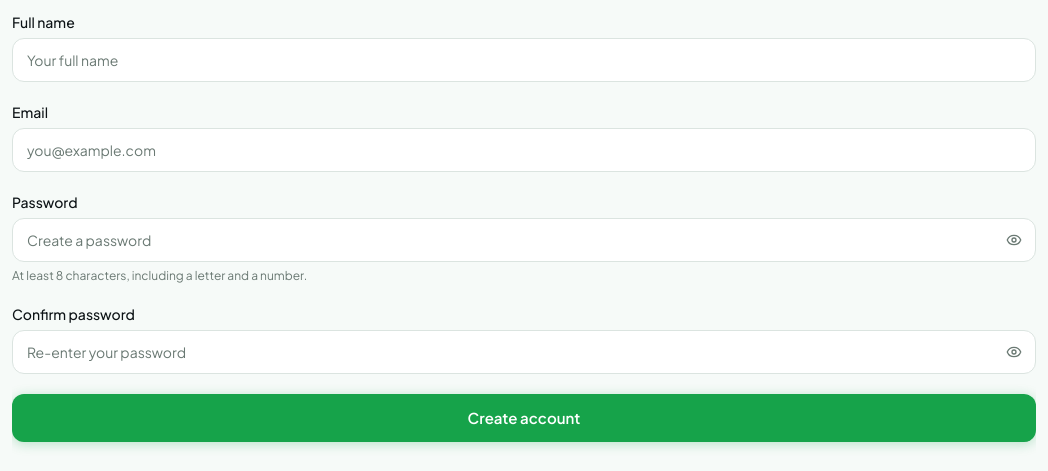
Test: RegisterForm › requires a strong password
Type "Ada Obi" into the field labelled "Full name" at (524, 60), box [12, 38, 1036, 82]
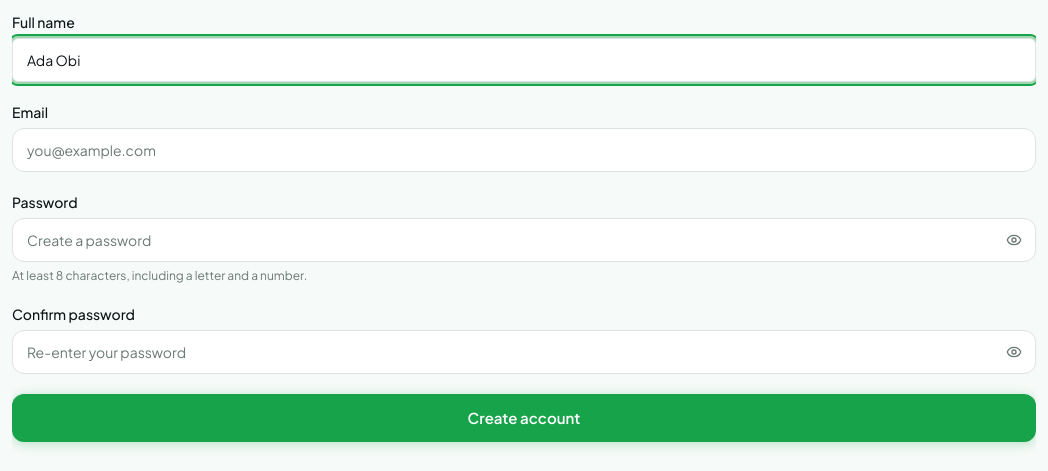
Type "ada@example.com" into the field labelled "Email" at (524, 150), box [12, 128, 1036, 172]
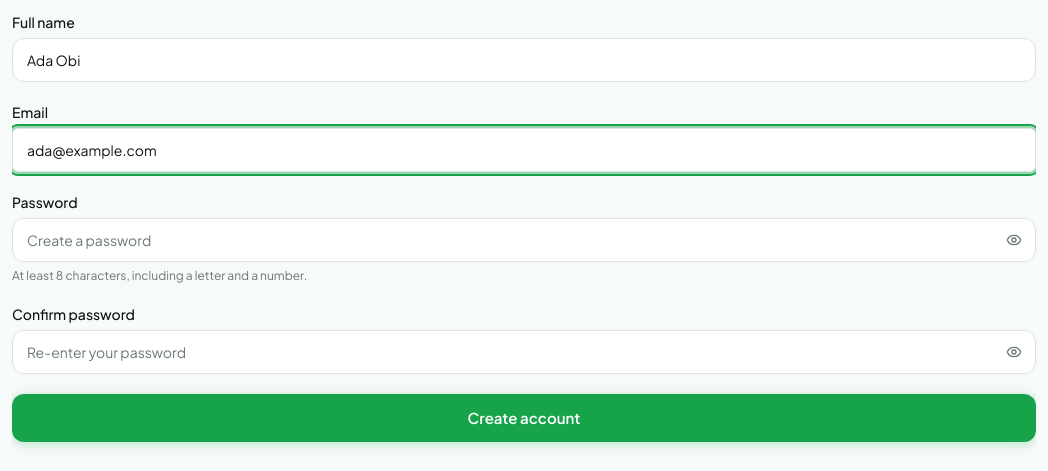
Type "weak" into the password field labelled "Password" at (524, 240), box [12, 218, 1036, 262]
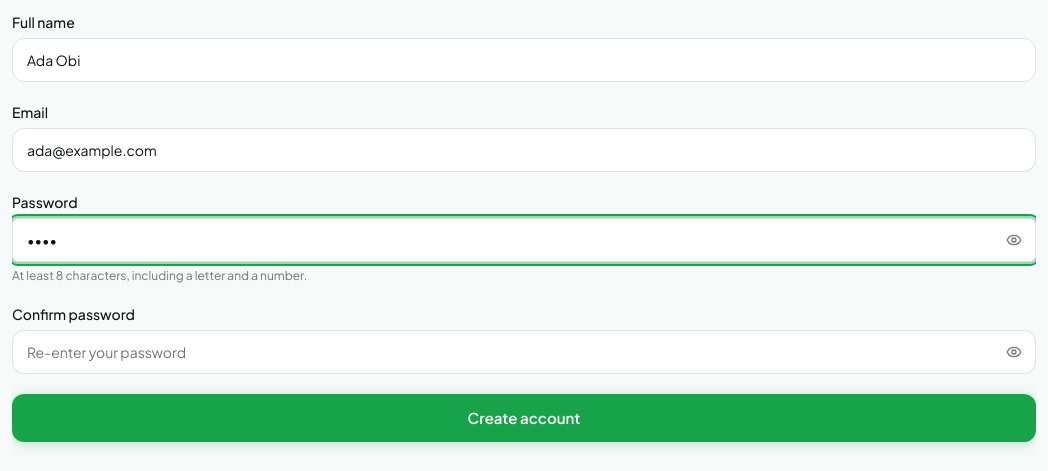
Type "weak" into the password field labelled "Confirm password" at (524, 352), box [12, 330, 1036, 374]
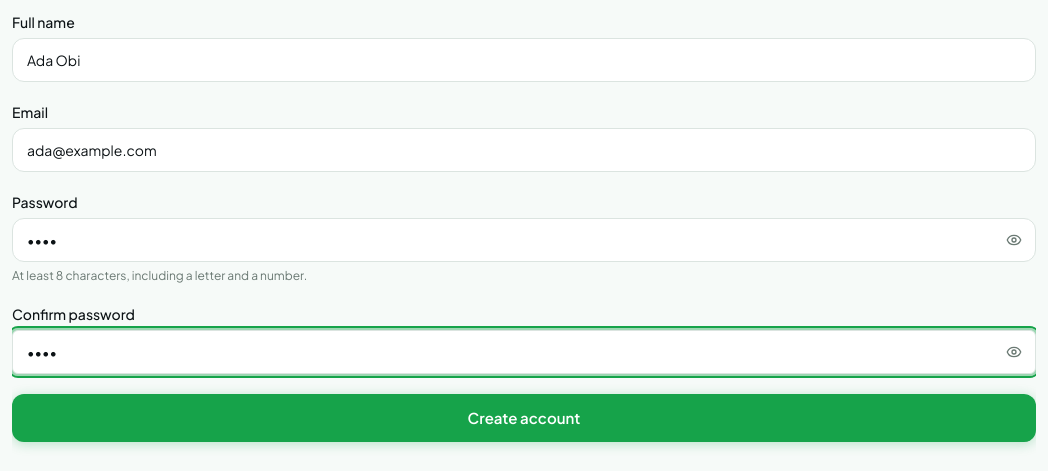
Click the button "Create account" at (524, 418), box [12, 394, 1036, 442]
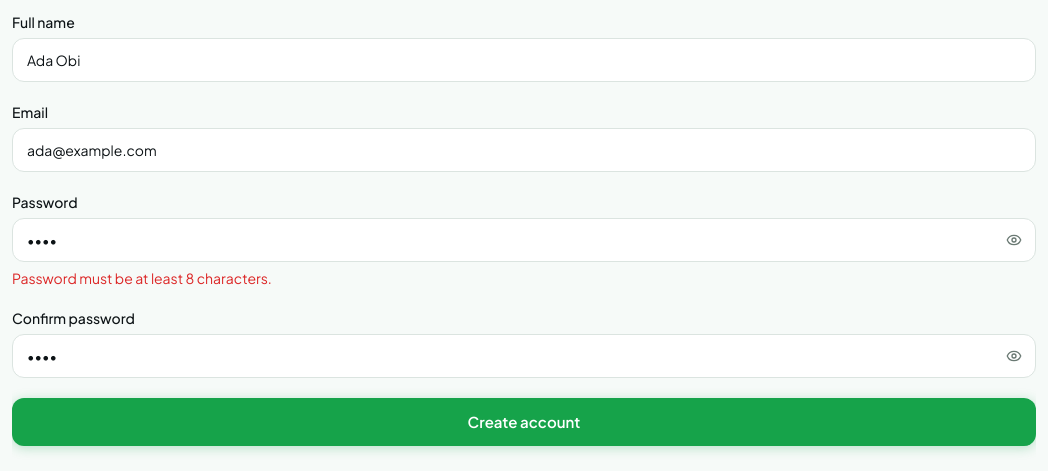
Check: the text "Password must be at least 8 characters." is shown, box [12, 269, 272, 287]
